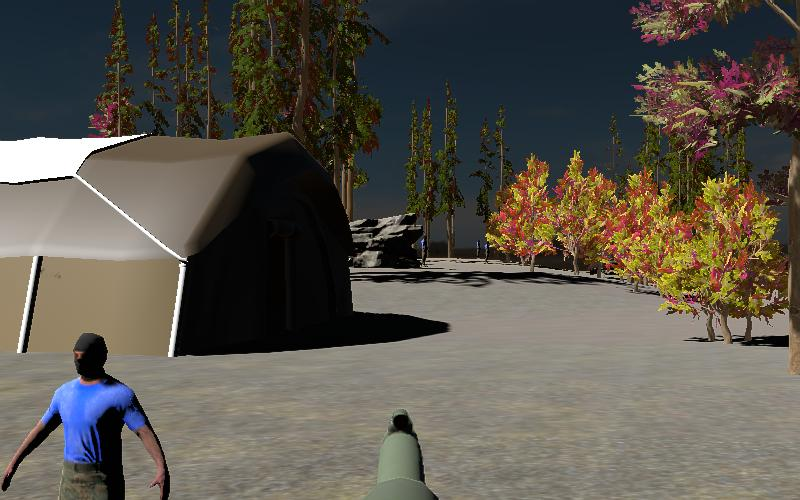Human: (0, 330, 175, 498)
